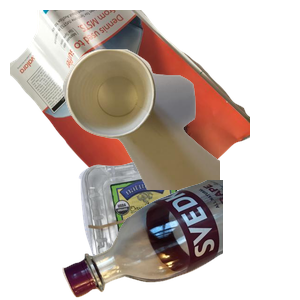glass: (60, 180, 300, 300)
paper: (10, 10, 250, 190)
plastic: (76, 151, 270, 300)
trash: (60, 47, 300, 227)
